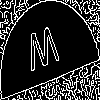W: (25, 24, 61, 81)
